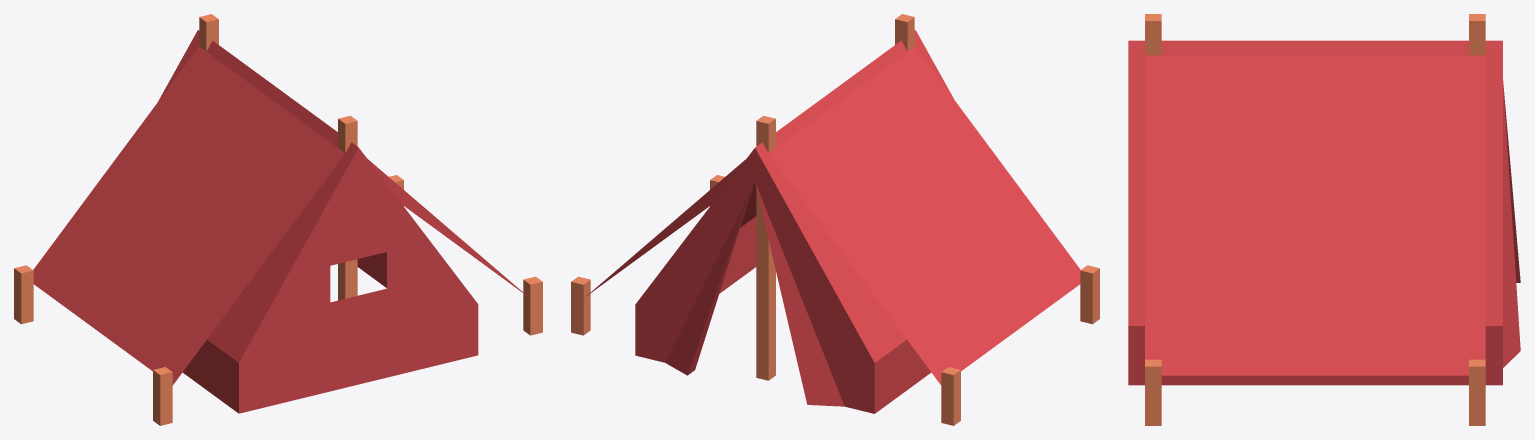
Rendered from tent-detailed-open.glb.
3 views of the same model, side by side, from view 1: azimuth 30°, elevation 25°; view 2: azimuth 150°, elevation 25°; view 3: azimuth 270°, elevation 25° (orthographic). The views are drawn at different scales.
Parts seen in each view (by area): view 1: tent_detailedOpen; view 2: tent_detailedOpen; view 3: tent_detailedOpen.
Part boxes in pixels (bbox=[...]): tent_detailedOpen: bbox=[14, 14, 542, 425]; tent_detailedOpen: bbox=[571, 14, 1099, 425]; tent_detailedOpen: bbox=[1128, 14, 1520, 425].
Size of the model in its own units: 0.8749 by 0.5611 by 0.6664.
